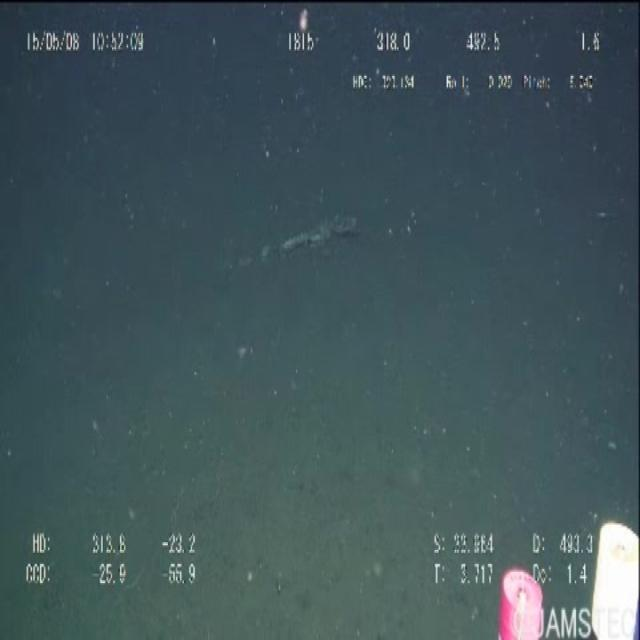Wood: (227, 202, 365, 274)
